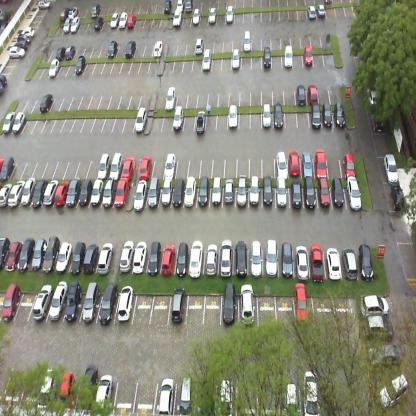car: (379, 372, 407, 408), (61, 289, 86, 326), (78, 363, 99, 407), (38, 364, 56, 413), (80, 287, 102, 325), (28, 288, 51, 324), (46, 290, 69, 326), (302, 369, 320, 414), (94, 375, 114, 415), (96, 288, 118, 324), (1, 284, 20, 324), (359, 293, 389, 318), (367, 346, 401, 368), (354, 240, 374, 277), (114, 289, 136, 322), (168, 291, 189, 325), (145, 240, 165, 275), (324, 242, 342, 280), (157, 377, 175, 413), (41, 239, 60, 273), (68, 240, 87, 274), (341, 244, 358, 282), (59, 370, 75, 410), (188, 239, 204, 279), (222, 281, 236, 326), (364, 316, 392, 338), (240, 284, 255, 325), (144, 177, 162, 211), (293, 243, 311, 277), (53, 241, 72, 273), (293, 282, 308, 322), (178, 376, 194, 413), (88, 174, 105, 208), (278, 244, 295, 278), (17, 238, 34, 272), (310, 242, 326, 278), (218, 377, 234, 413), (346, 176, 362, 212), (199, 379, 215, 415), (160, 241, 177, 274), (174, 243, 191, 276), (203, 241, 218, 278), (170, 176, 186, 210), (263, 243, 279, 277), (234, 241, 249, 277), (65, 176, 81, 209), (113, 177, 129, 210), (156, 178, 172, 211), (132, 240, 148, 273), (217, 242, 233, 275), (382, 153, 398, 186), (30, 179, 47, 210), (52, 179, 70, 208), (7, 179, 25, 208), (96, 244, 113, 274), (248, 240, 263, 274), (316, 177, 332, 208), (5, 240, 22, 269), (314, 148, 330, 178), (118, 242, 134, 272), (31, 238, 46, 270), (132, 181, 148, 211), (284, 381, 298, 413), (330, 179, 345, 208), (197, 179, 211, 210), (288, 147, 302, 177), (235, 179, 249, 209), (262, 178, 276, 208), (101, 178, 115, 208), (42, 180, 58, 206), (209, 180, 223, 209), (304, 178, 317, 209), (122, 155, 138, 180), (184, 176, 196, 209), (78, 178, 92, 206), (332, 101, 347, 127), (391, 184, 406, 210), (109, 155, 125, 179), (163, 152, 176, 180), (342, 151, 355, 179), (21, 179, 34, 207), (134, 106, 147, 134), (138, 155, 153, 179), (301, 150, 313, 180), (1, 156, 14, 183), (0, 235, 10, 270), (98, 152, 111, 178), (290, 180, 302, 208), (172, 105, 184, 133), (250, 174, 260, 207), (276, 151, 288, 178), (1, 110, 15, 133), (277, 178, 287, 209), (224, 178, 234, 208), (227, 103, 238, 130), (321, 104, 334, 126), (311, 102, 322, 128), (165, 84, 176, 110), (12, 112, 25, 134), (261, 102, 271, 130), (0, 183, 11, 208), (38, 94, 52, 112), (47, 59, 59, 80), (201, 47, 211, 72), (196, 110, 206, 134), (296, 83, 306, 107), (9, 45, 25, 60), (172, 6, 182, 29), (124, 41, 136, 60), (105, 40, 117, 59), (308, 84, 318, 106), (302, 45, 312, 67), (224, 5, 234, 27), (231, 47, 240, 71), (274, 103, 282, 129), (284, 43, 292, 68), (242, 30, 251, 52), (108, 12, 119, 30), (61, 17, 72, 35), (75, 55, 85, 74), (153, 40, 163, 59), (306, 4, 317, 21), (125, 13, 136, 30), (193, 36, 202, 56), (118, 12, 128, 30), (263, 47, 271, 69), (70, 17, 80, 34), (93, 16, 104, 31), (59, 7, 70, 22), (67, 5, 78, 20), (316, 2, 326, 18), (208, 6, 216, 25), (65, 46, 75, 61), (19, 26, 34, 36), (162, 0, 172, 15), (192, 8, 200, 26), (91, 4, 101, 18), (16, 33, 30, 43), (56, 46, 65, 60), (14, 41, 28, 50), (185, 0, 194, 14), (37, 1, 50, 10), (0, 73, 7, 86), (176, 0, 184, 11)
